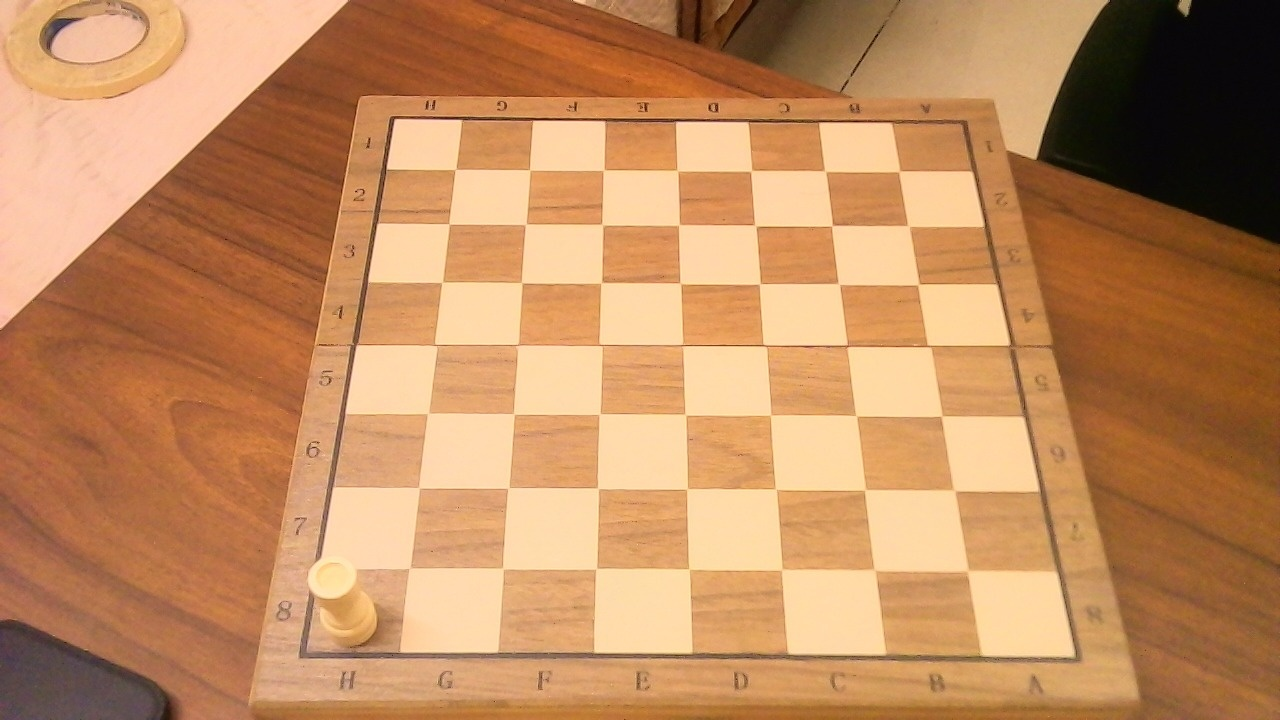R: (305, 545, 390, 648)
